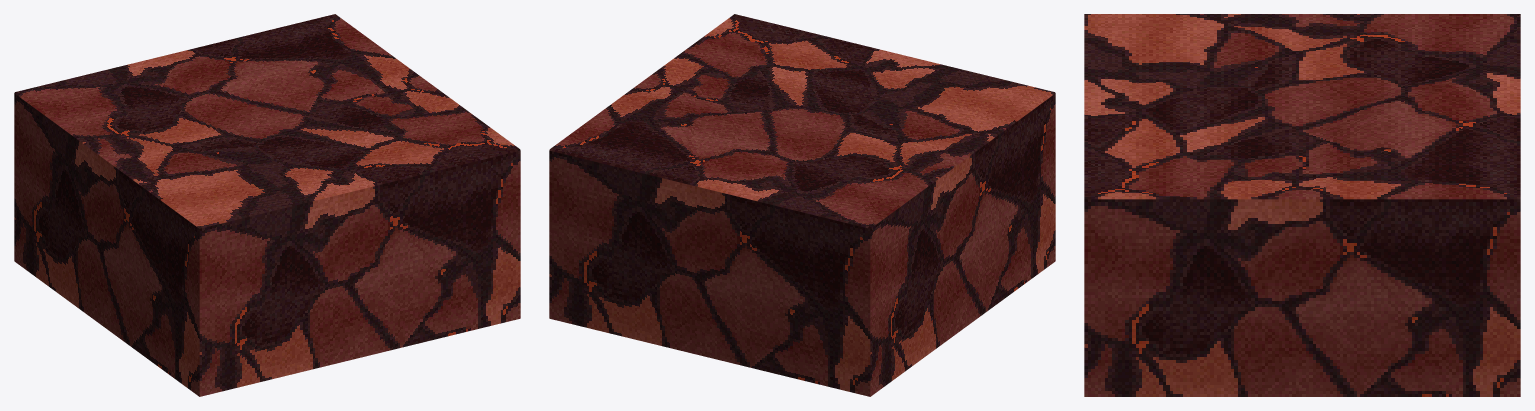
File: bloco_caverna_inferno.glb
3 views of the same model, side by side, from view 1: azimuth 30°, elevation 25°; view 2: azimuth 150°, elevation 25°; view 3: azimuth 270°, elevation 25° (orthographic). The views are drawn at different scales.
Visible parts, largest first — view 1: bloco_caverna_inferno; view 2: bloco_caverna_inferno; view 3: bloco_caverna_inferno.
Part boxes in pixels (x1,y1,x2,y2): bloco_caverna_inferno: [14, 14, 520, 396]; bloco_caverna_inferno: [549, 14, 1055, 396]; bloco_caverna_inferno: [1084, 14, 1520, 396].
Bounding box in the file's own units: 2 × 1.03 × 2.
1 material, 1 textured.
